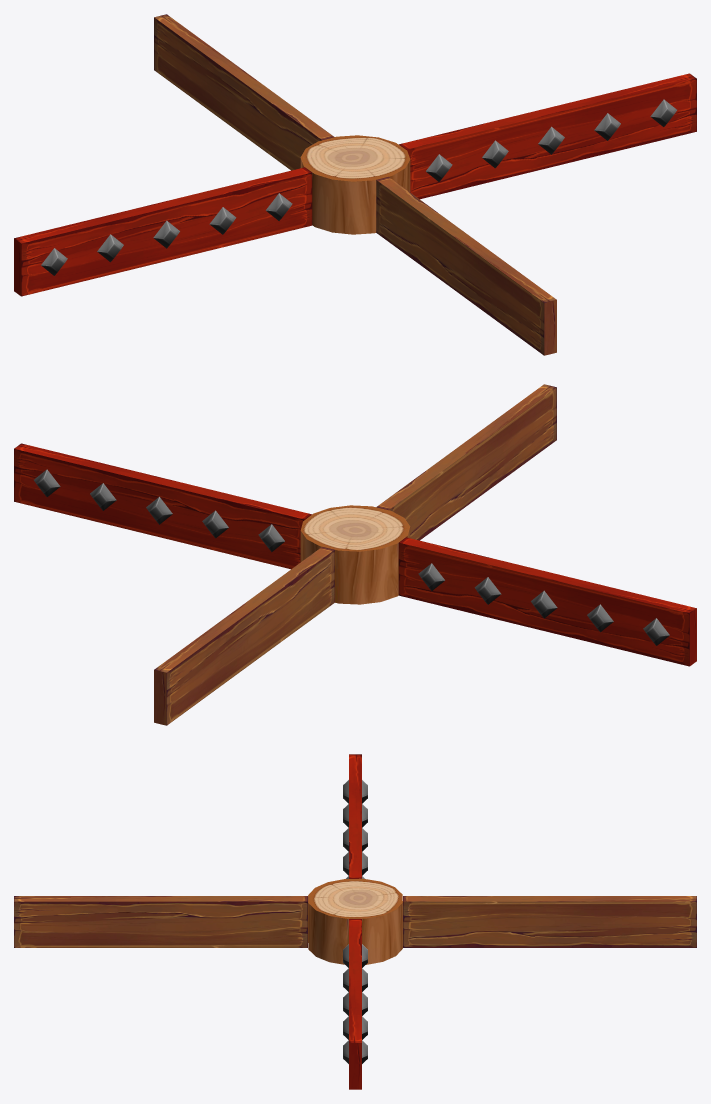
The model's file is four_blade_double_03.fbx.
The picture shows the model from 3 angles, top to bottom: view 1: azimuth 30°, elevation 25°; view 2: azimuth 150°, elevation 25°; view 3: azimuth 270°, elevation 25°; orthographic projection. The views are drawn at different scales.
Parts seen in each view (by area): view 1: four_blade_double_03; view 2: four_blade_double_03; view 3: four_blade_double_03.
Boxes of the visible parts, x1=… form: four_blade_double_03: x1=14, y1=14, x2=696, y2=355; four_blade_double_03: x1=14, y1=384, x2=696, y2=725; four_blade_double_03: x1=14, y1=754, x2=696, y2=1089.
Bounding box in the file's own units: 534 × 40 × 534.
